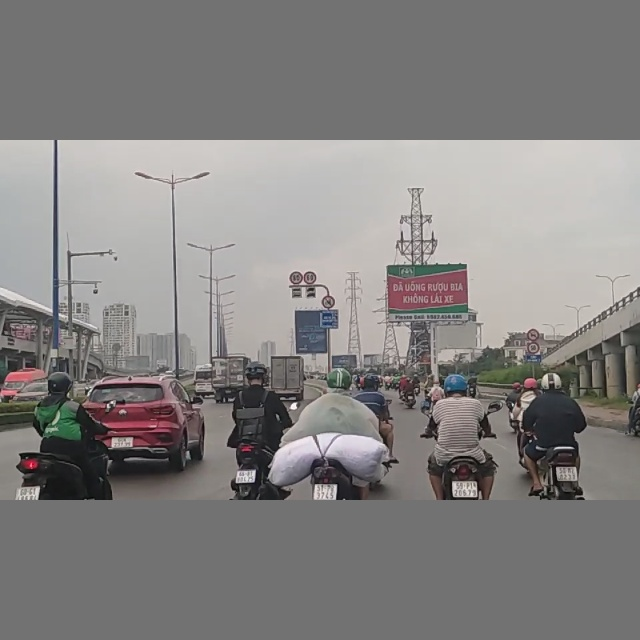P.104: (319, 293, 336, 309)
